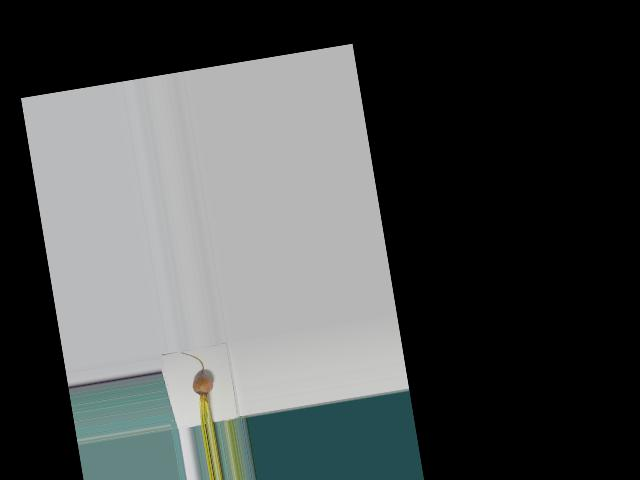beet: (181, 348, 219, 426)
